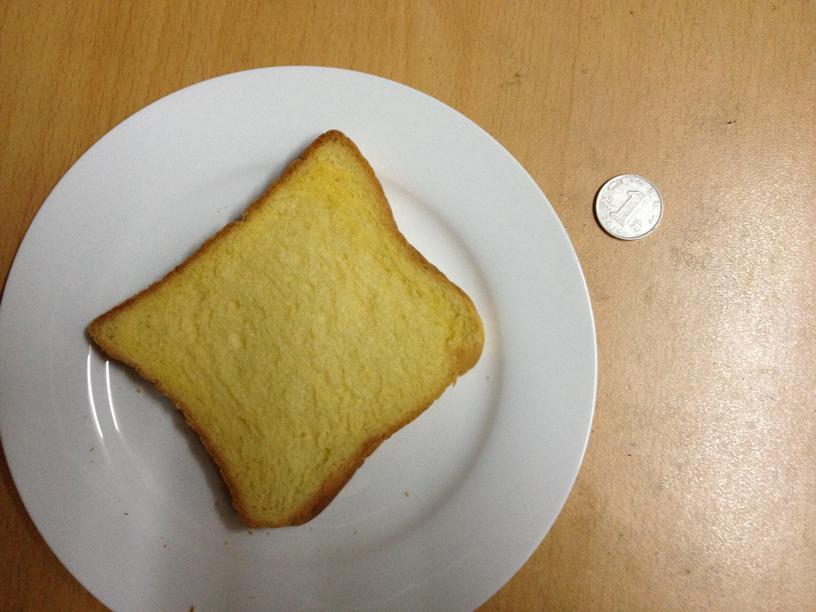bread: (85, 124, 484, 532)
coin: (593, 174, 662, 241)
